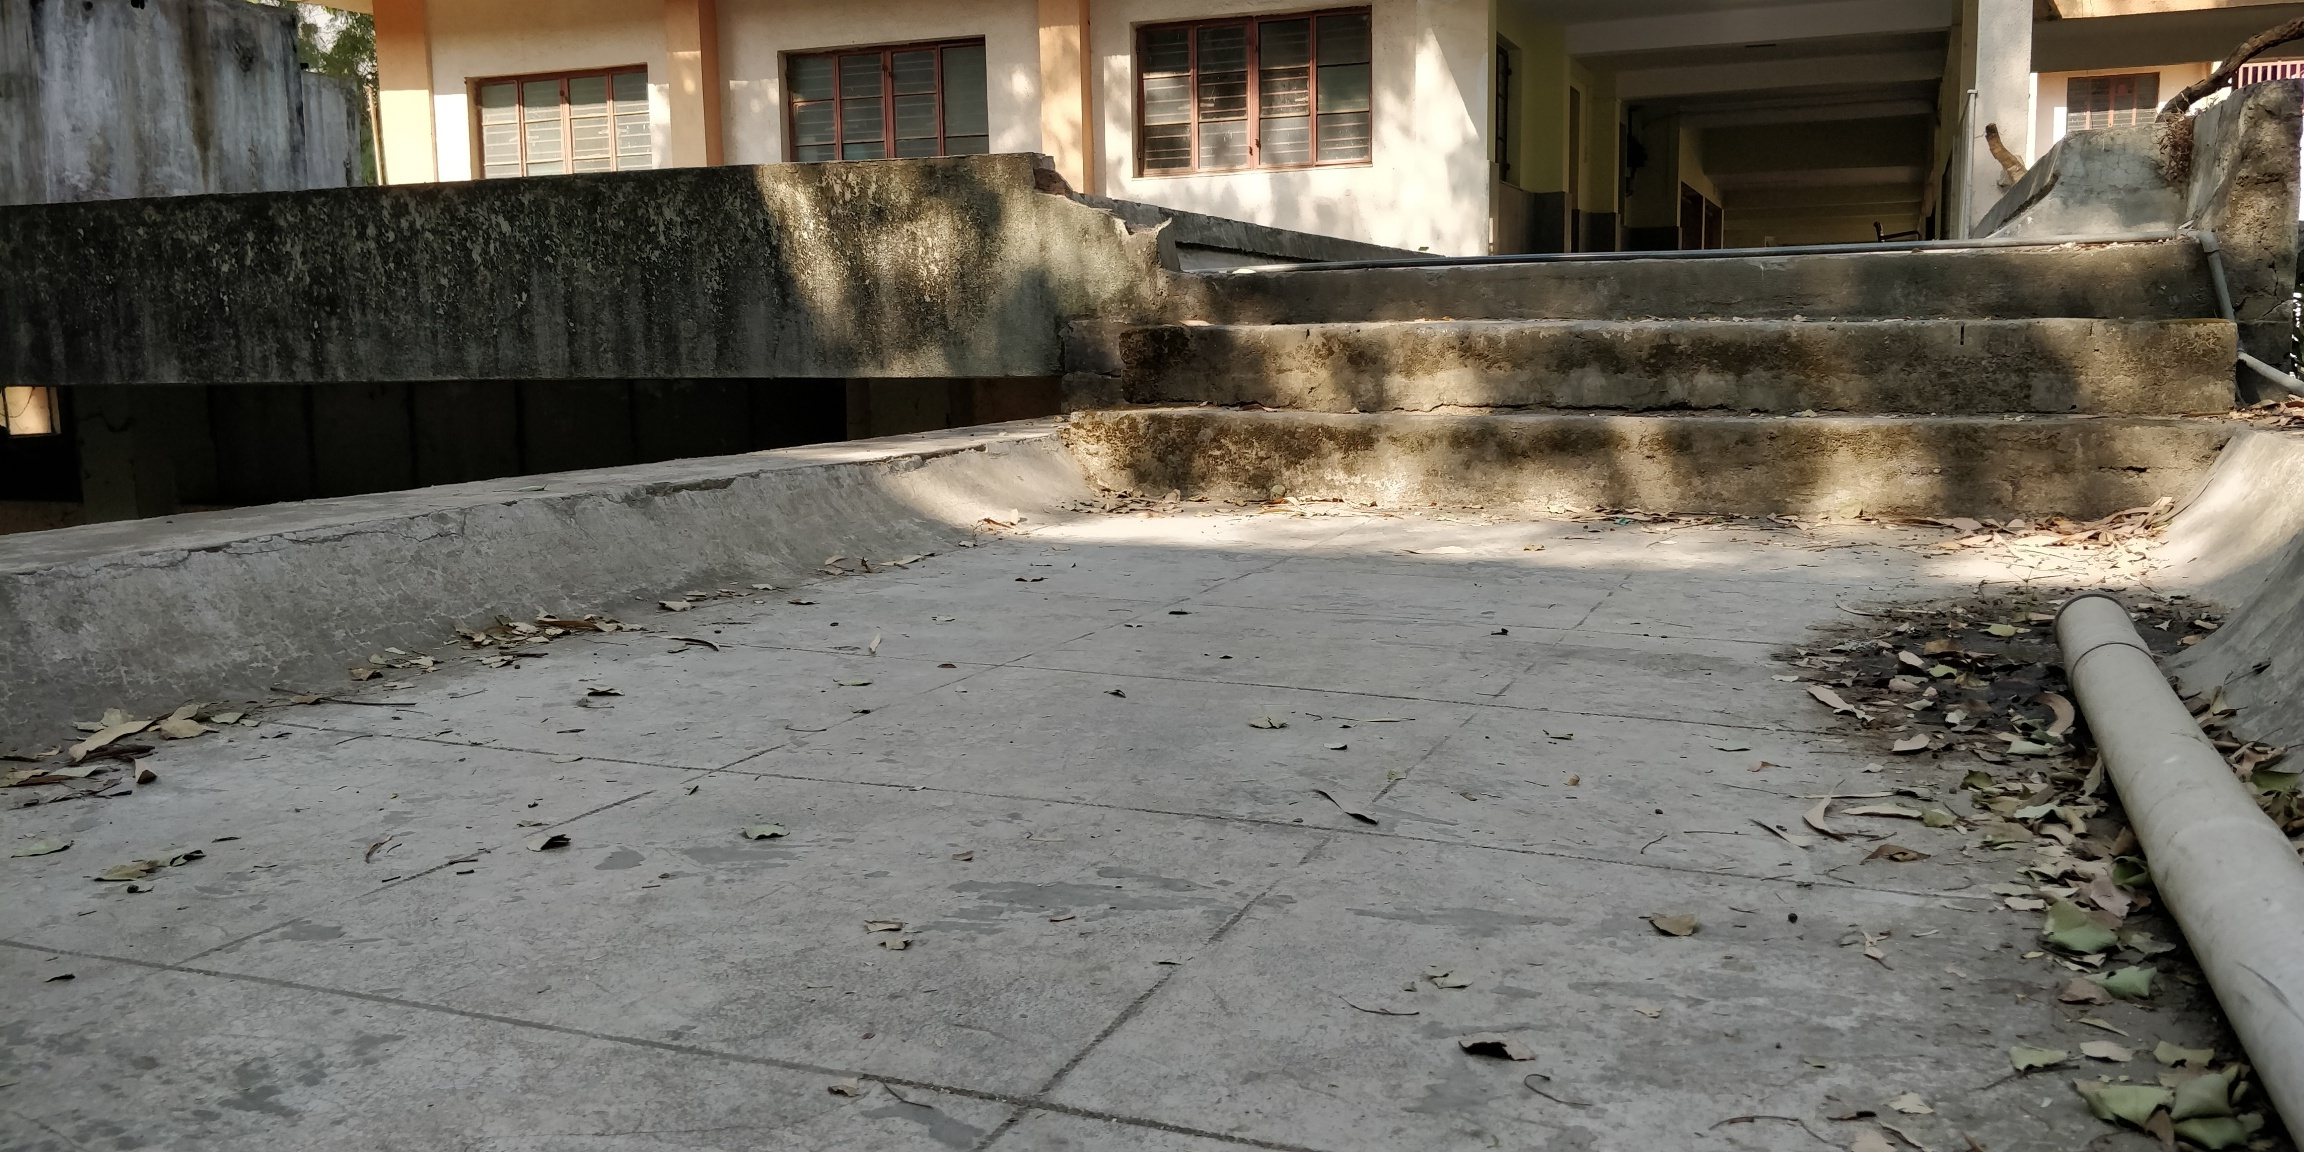stairs_up: (1134, 234, 2200, 504)
